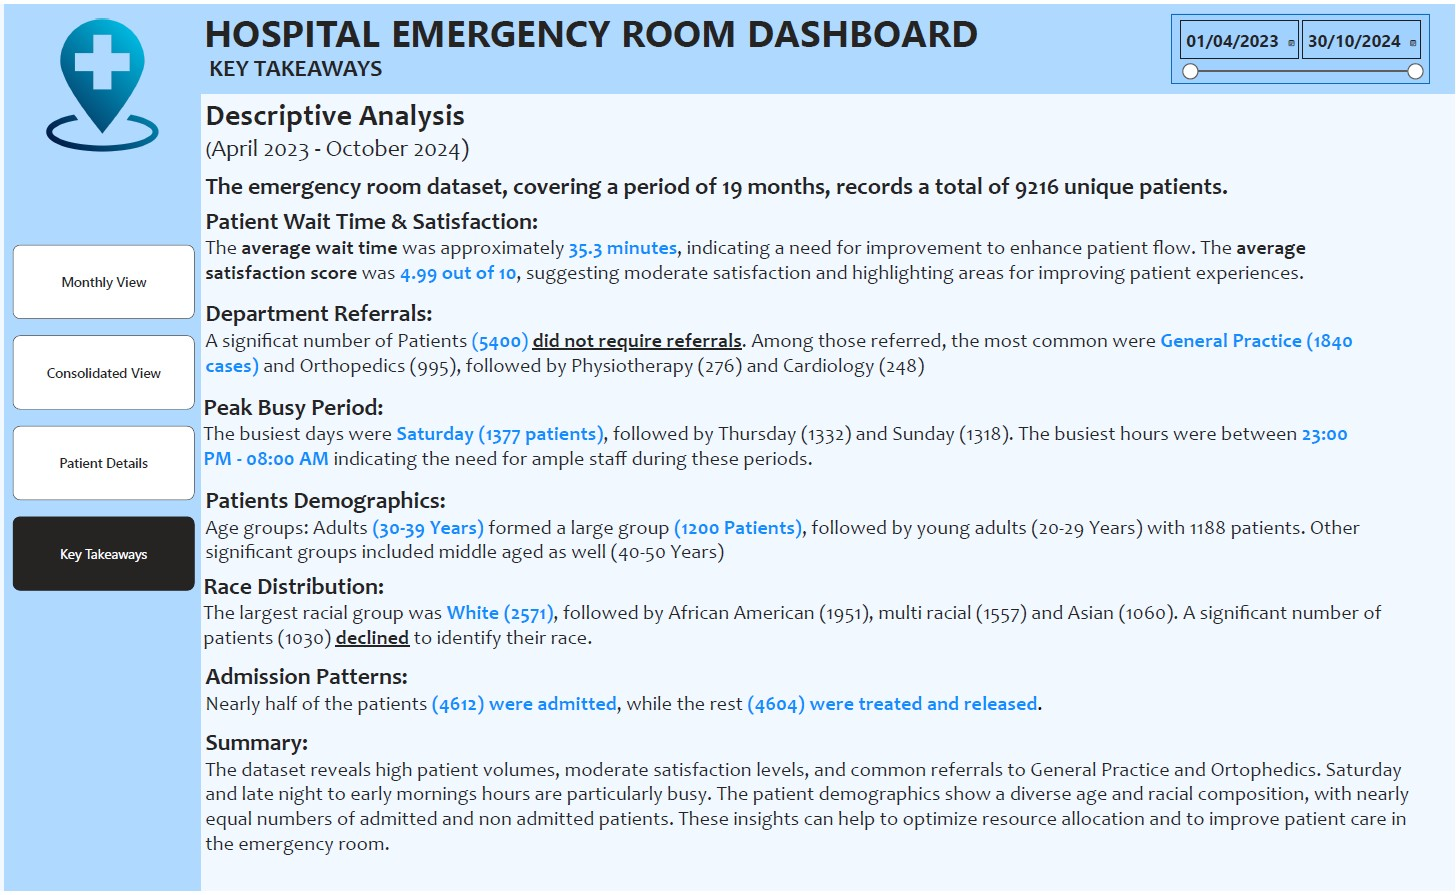

What the dashboard file says about the page in this screenshot:
{"tool":"powerbi","page":{"name":"Key Takeaways","canvas":[2300,1400],"ordinal":3},"visuals":[{"type":"shape","box":[9.9,0,310,1400.5],"z":0},{"type":"shape","box":[320.5,0,1980,140.5],"z":1000},{"type":"textbox","box":[320,0,1255,100],"z":2000},{"type":"textbox","box":[320,72.5,380,67.5],"z":3000},{"type":"slicer","fields":{"Values":["Date Table.Date"]},"box":[1852.5,15,407.5,110],"z":4000},{"type":"image","box":[55,15,220,225],"z":5000},{"type":"pageNavigator","box":[22.5,380,287.5,547.5],"z":6000},{"type":"textbox","box":[321.7,140.3,522.5,118.5],"z":7000},{"type":"textbox","box":[321.7,258.8,1770.6,65.3],"z":8000},{"type":"textbox","box":[321.7,314.4,1828.6,145.1],"z":9000},{"type":"textbox","box":[321.7,737.7,1927.8,188.7],"z":10000},{"type":"textbox","box":[319.3,607.1,1828.6,150],"z":11000},{"type":"textbox","box":[321.7,459.6,1828.6,164.5],"z":12000},{"type":"textbox","box":[319.3,890.1,1927.8,142.7],"z":13000},{"type":"textbox","box":[321.7,1032.8,1927.8,104],"z":14000},{"type":"textbox","box":[321.7,1136.8,1927.8,241.9],"z":15000}]}

Visuals, with their boxes in screenshot pixels (x1, y1, x2, y2), scaled from the page's 2300x1400 canvas onto the 1456x895 screenshot:
shape: 6 0 203 894
shape: 203 0 1455 90
textbox: 203 0 997 64
textbox: 203 46 443 90
slicer - Date Table.Date: 1173 10 1431 80
image: 35 10 174 153
pageNavigator: 14 243 196 593
textbox: 204 90 534 165
textbox: 204 165 1325 207
textbox: 204 201 1361 294
textbox: 204 472 1424 592
textbox: 202 388 1360 484
textbox: 204 294 1361 399
textbox: 202 569 1423 660
textbox: 204 660 1424 727
textbox: 204 727 1424 881
